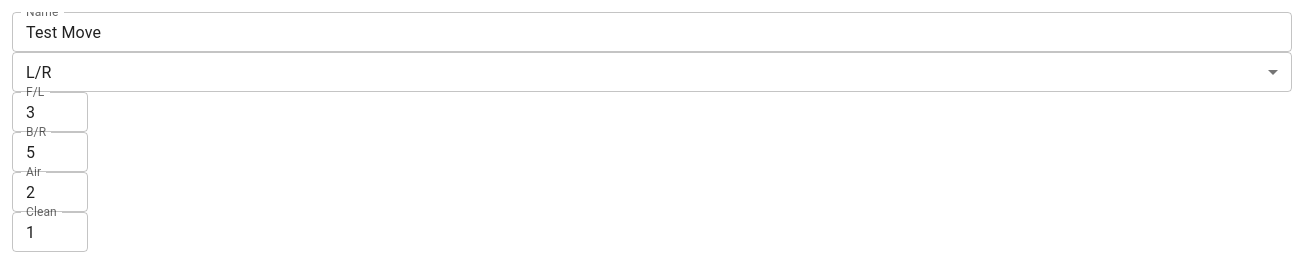
Test: EditMove › shows error states for invalid inputs
The image size is (1304, 269).
// Test empty name error
Clear the field labelled "Name": (652,32) left=12, top=12, right=1292, bottom=52
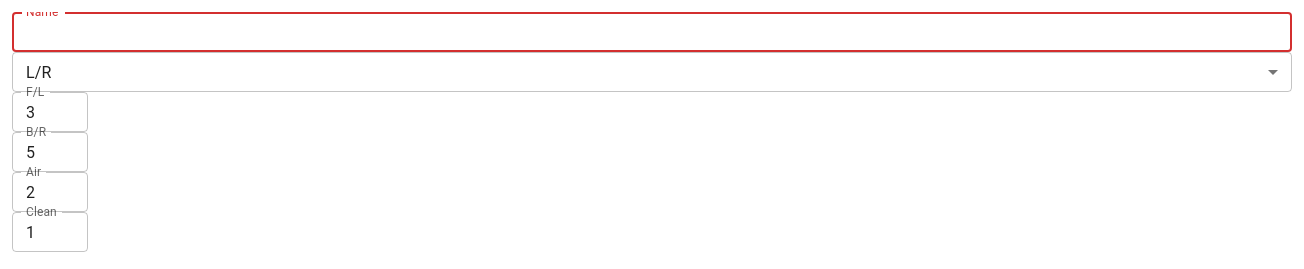
Expected: the field labelled "Name" is marked as invalid, left=12, top=12, right=1292, bottom=52
// Test empty F/L score error
Clear the field labelled "F/L": (50,112) left=12, top=92, right=88, bottom=132
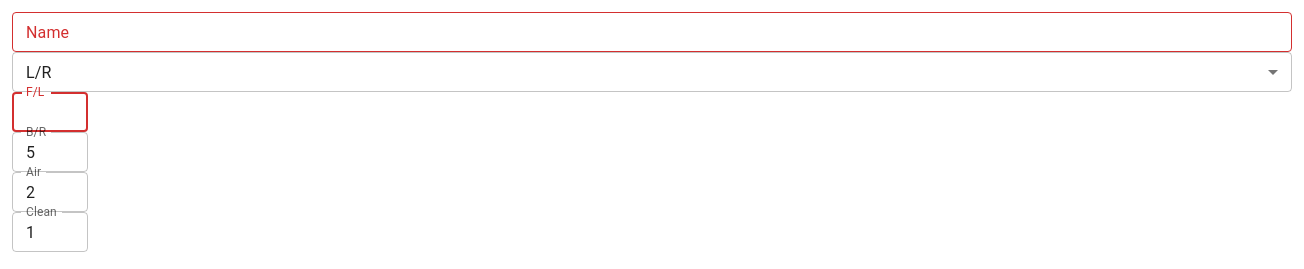
Expected: the field labelled "F/L" is marked as invalid, left=12, top=92, right=88, bottom=132
// Test empty bonus score error
Clear the field labelled "Air": (50,192) left=12, top=172, right=88, bottom=212
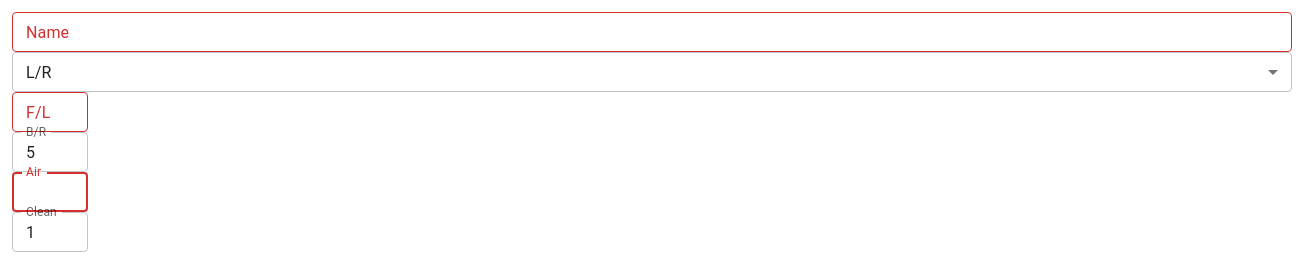
Expected: the field labelled "Air" is marked as invalid, left=12, top=172, right=88, bottom=212
// Test that B/R is disabled when direction is Single
Click the dropdown: (39,72) left=26, top=62, right=52, bottom=82
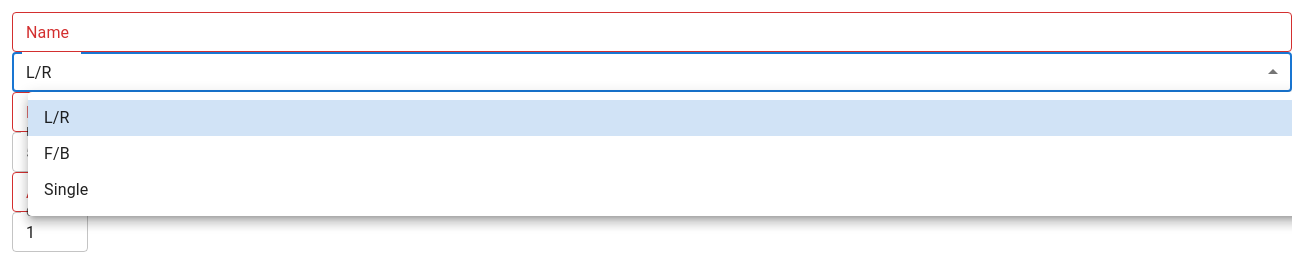
Click the option "Single": (66,190) left=44, top=180, right=88, bottom=199
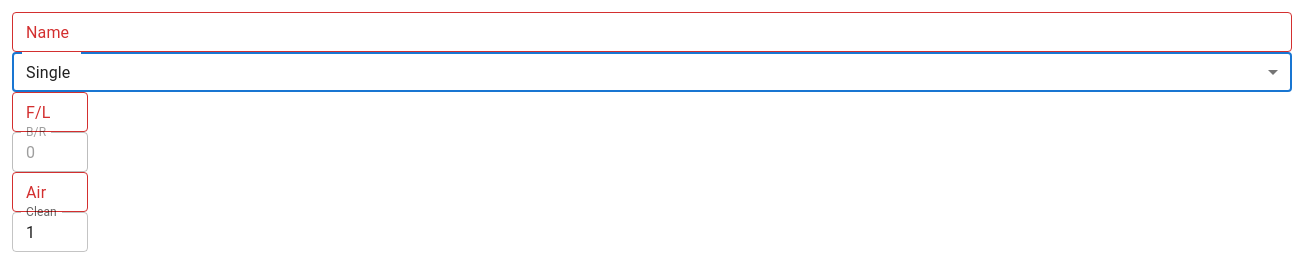
Expected: the field labelled "B/R" is disabled, left=12, top=132, right=88, bottom=172
Expected: the field labelled "B/R" holds "0", left=12, top=132, right=88, bottom=172
